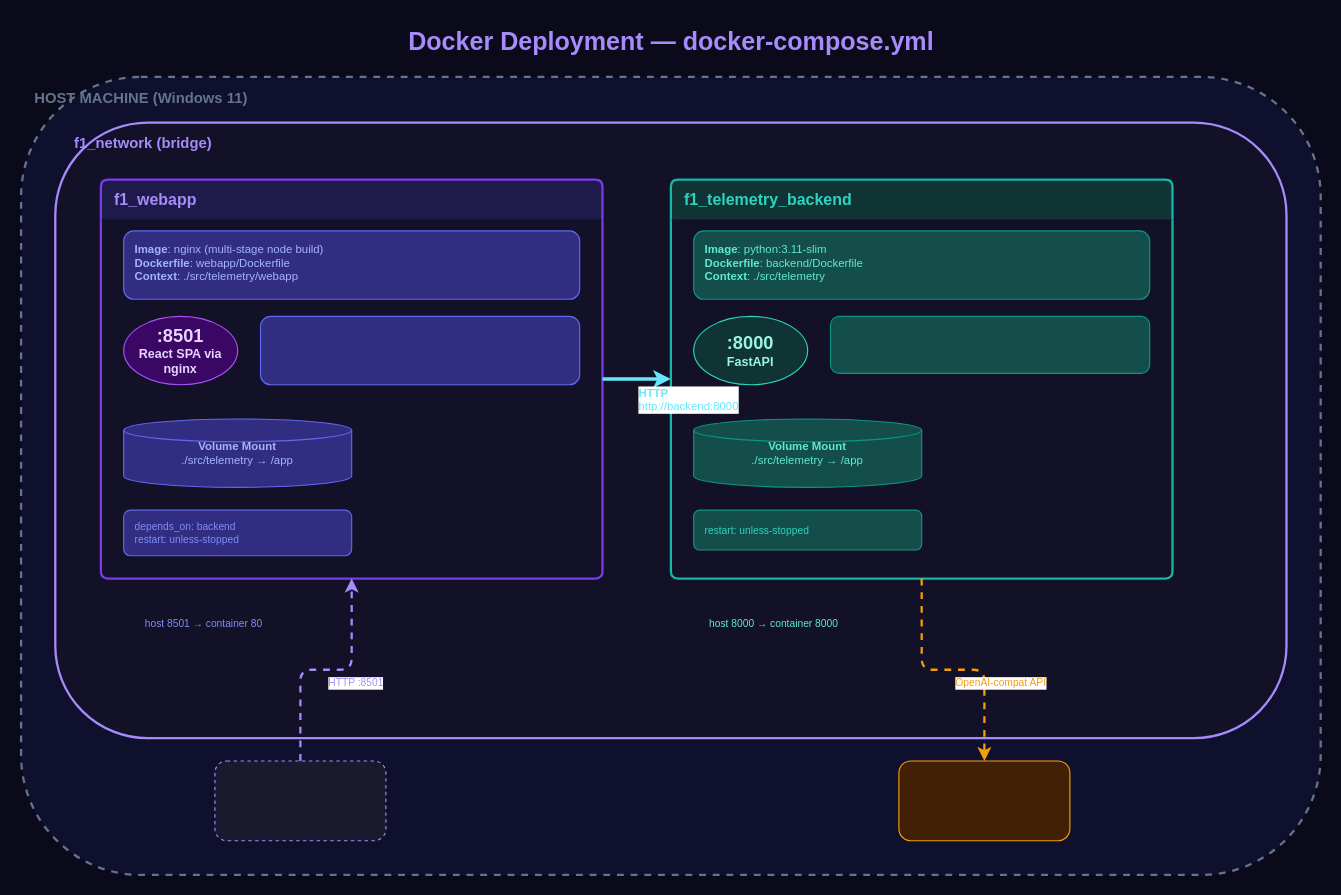
The diagram is 1341 pixels wide and 895 high, and some of its shapes have lost their labels. The shapes that lost their labels are listed below. From the top down, each one's centre as x and y in pixels, then its label:
the point at 419,350: Environment PYTHONUNBUFFERED=1 BACKEND_URL=http://backend:8000
the point at 989,344: Environment PYTHONUNBUFFERED=1
the point at 300,800: Browser localhost:8501
the point at 984,800: LM Studio :1234 (host machine)
